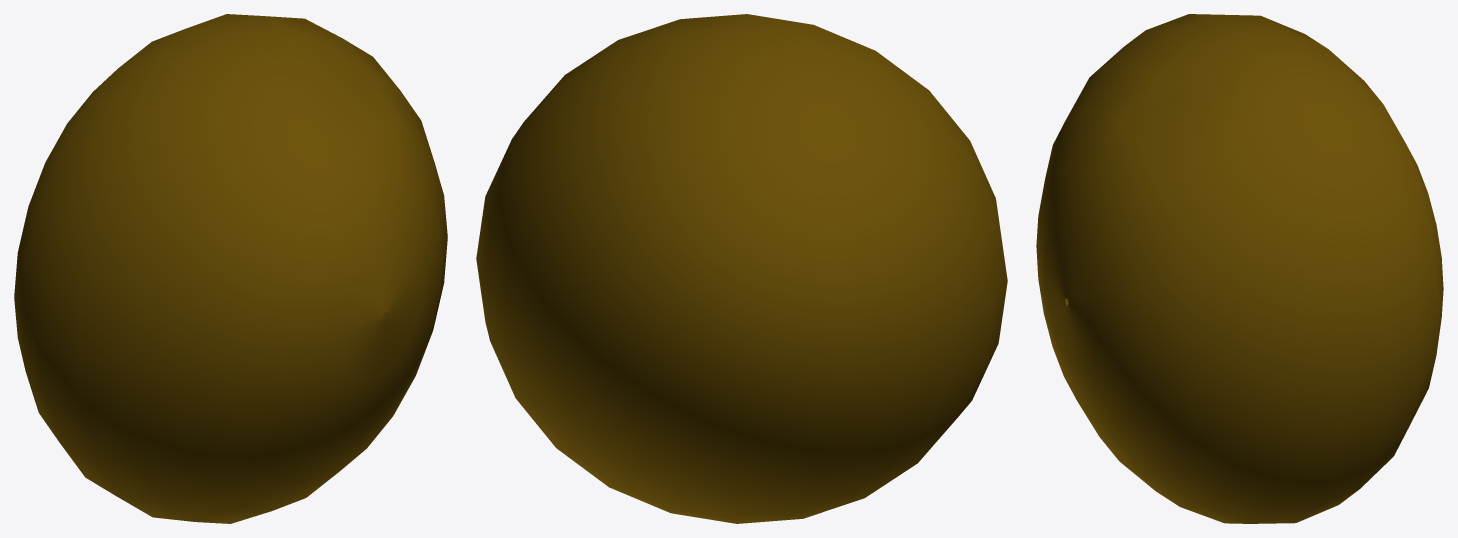
Rendered from original-3.obj.
3 views of the same model, side by side, from view 1: azimuth 30°, elevation 25°; view 2: azimuth 150°, elevation 25°; view 3: azimuth 270°, elevation 25° (orthographic). The views are drawn at different scales.
Parts seen in each view (by area): view 1: Group3/mesh1/mesh1-geometry#mesh1-geometry; view 2: Group3/mesh1/mesh1-geometry#mesh1-geometry; view 3: Group3/mesh1/mesh1-geometry#mesh1-geometry.
Boxes of the visible parts, box(x1,y1,x2,y2) form: Group3/mesh1/mesh1-geometry#mesh1-geometry: box(14, 14, 447, 523); Group3/mesh1/mesh1-geometry#mesh1-geometry: box(476, 14, 1007, 523); Group3/mesh1/mesh1-geometry#mesh1-geometry: box(1036, 14, 1443, 523).
Size of the model in its own units: 0.0414 by 0.0432 by 0.0338.
